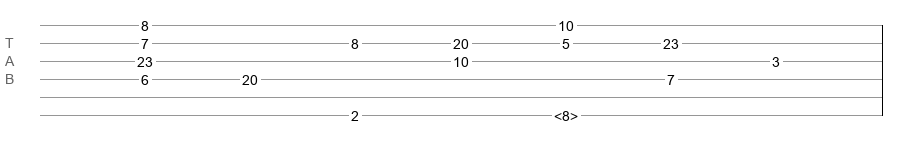10: (453, 54, 469, 64), (558, 18, 574, 28)
2: (351, 108, 359, 118)
20: (242, 72, 258, 82), (453, 36, 469, 46)
23: (137, 54, 153, 64), (663, 36, 679, 46)
3: (772, 54, 780, 64)
5: (562, 36, 570, 46)
6: (141, 72, 149, 82)
7: (141, 36, 149, 46), (667, 72, 675, 82)
8: (141, 18, 149, 28), (351, 36, 359, 46)
harmonic: (554, 108, 578, 118)
